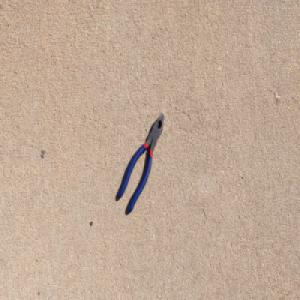Pliers: (117, 111, 166, 216)
